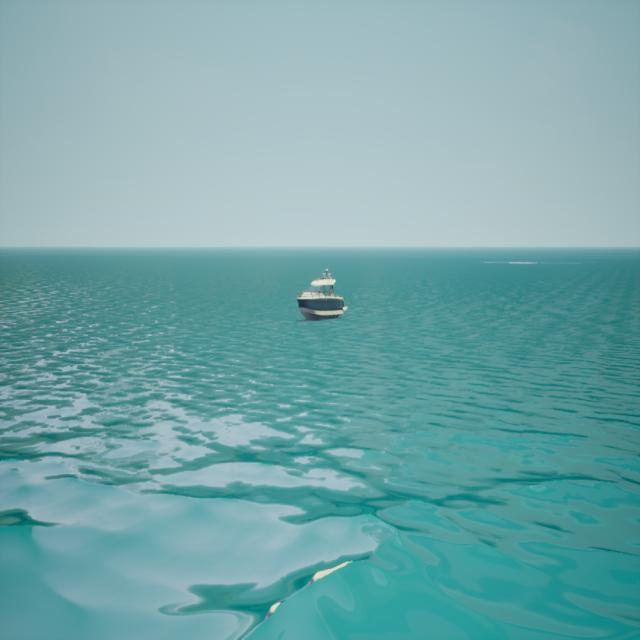ship: (296, 265, 346, 319)
